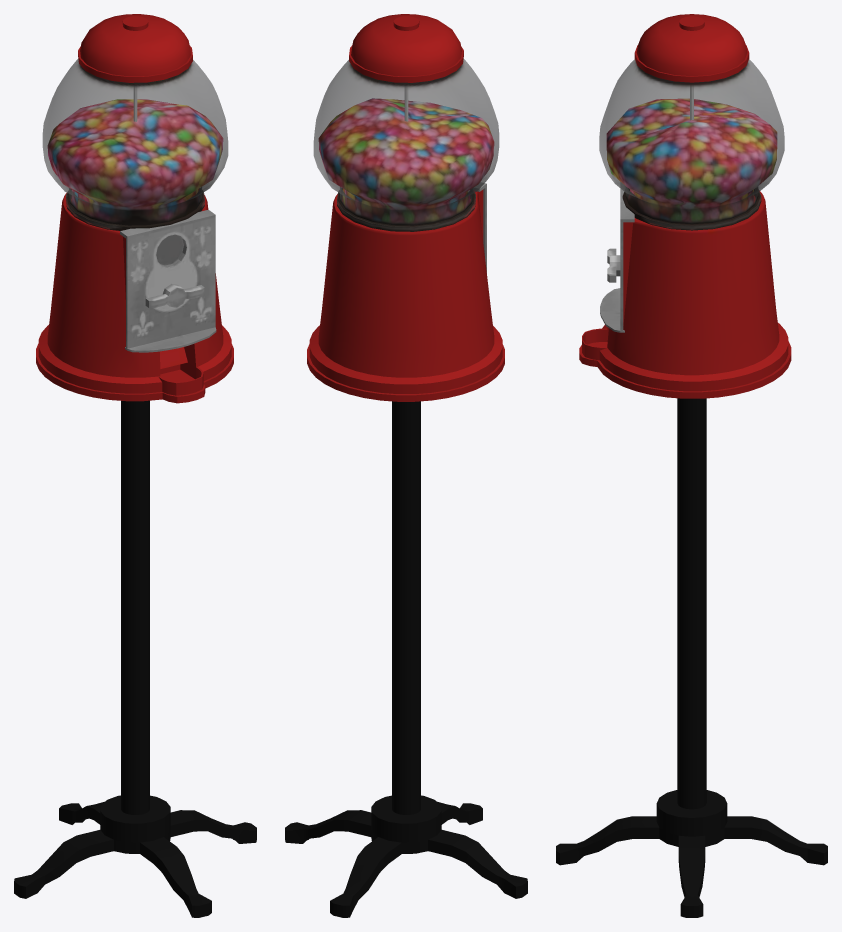
Rendered from gumball.glb.
3 views of the same model, side by side, from view 1: azimuth 30°, elevation 25°; view 2: azimuth 150°, elevation 25°; view 3: azimuth 270°, elevation 25° (orthographic).
Visible parts, largest first — view 1: SM_MaqChicle, SM_MaqSoporte; view 2: SM_MaqChicle, SM_MaqSoporte; view 3: SM_MaqChicle, SM_MaqSoporte.
Part boxes in pixels (x1,y1,x2,y2): SM_MaqChicle: [36, 14, 233, 403]; SM_MaqSoporte: [14, 400, 256, 917]; SM_MaqChicle: [307, 14, 504, 401]; SM_MaqSoporte: [285, 401, 527, 917]; SM_MaqChicle: [579, 14, 791, 398]; SM_MaqSoporte: [556, 398, 827, 917].
Size of the model in its own units: 0.4006 by 1.36 by 0.4006.
Materials: 3 (3 with a texture image).
